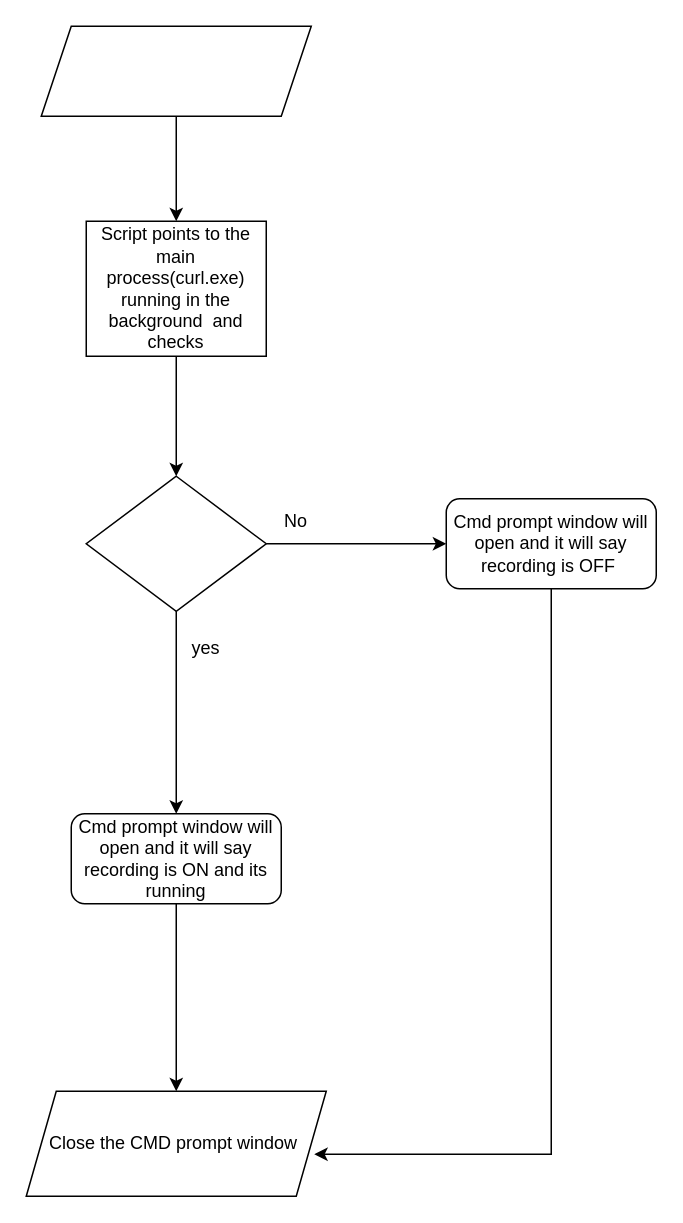
The diagram is 683 pixels wide and 1223 high, and some of its shapes have lost their labels. The box of each missing label's shape, as (x1, y1, x2, y2) in pixels:
Double click on .bat file on desktop of Dante PC: (40, 25, 311, 116)
Recording is ON?: (85, 475, 266, 611)
